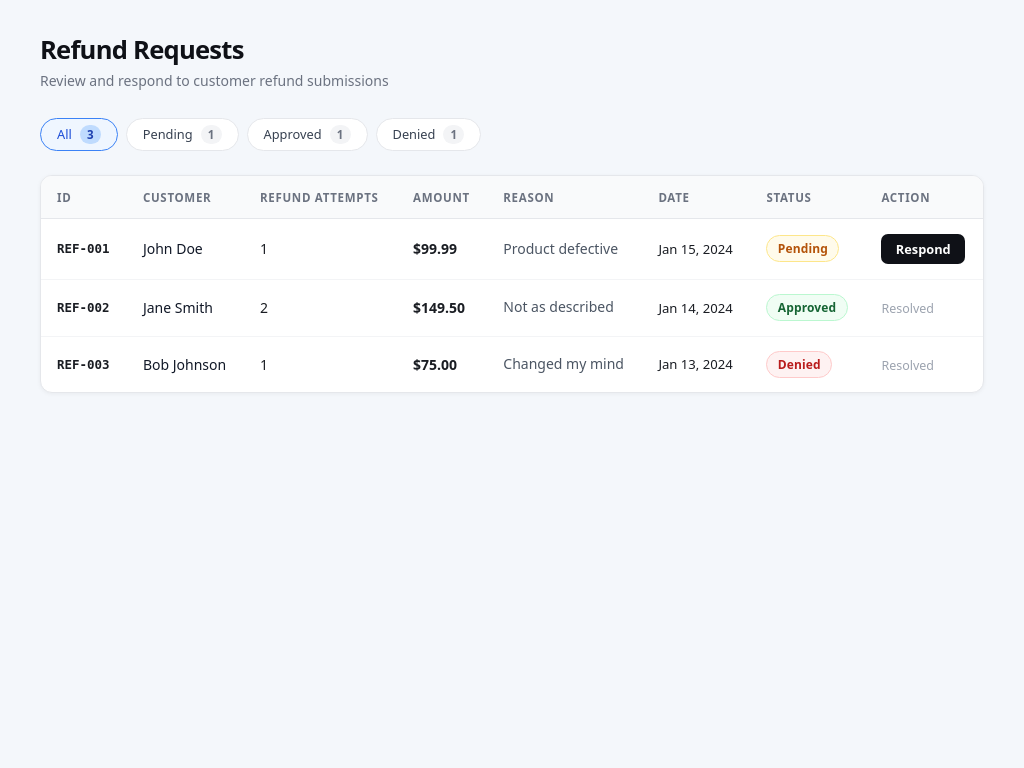
Test case: RefundsPage › closes modal when clicking close button
This screenshot has width=1024, height=768.
Expected: the text "REF-001" is shown, [41,219,127,279]
Click the button "Respond" at (923, 249), box [881,234,965,264]
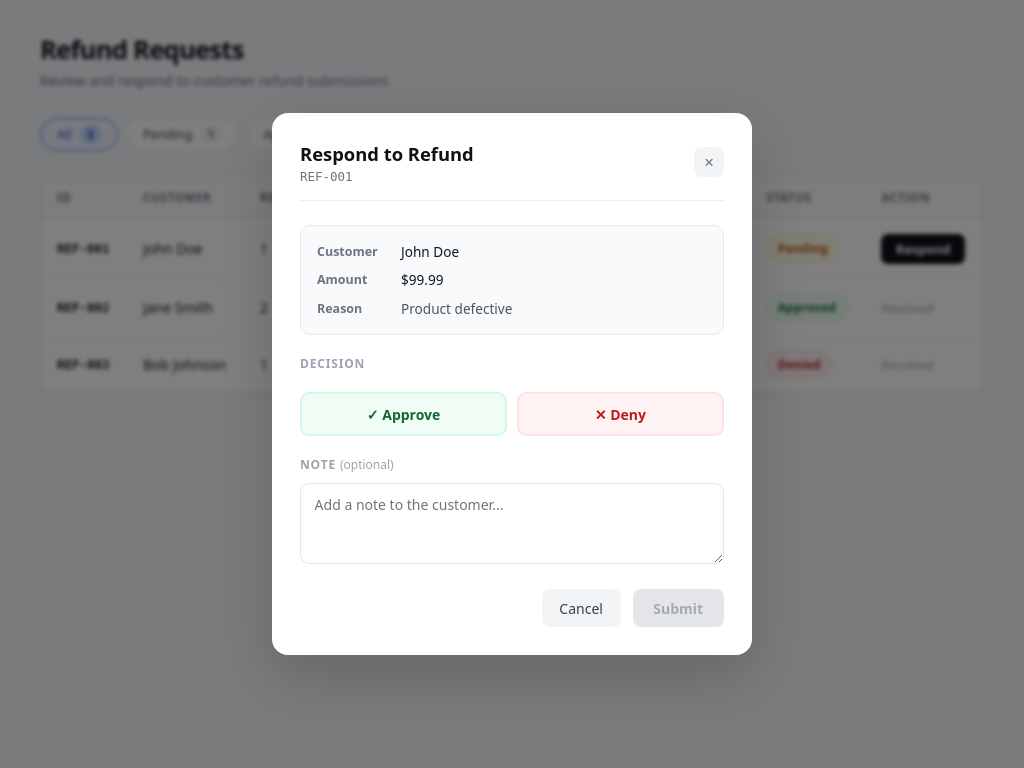
Click the button "✕" at (709, 162), box [694,147,724,177]
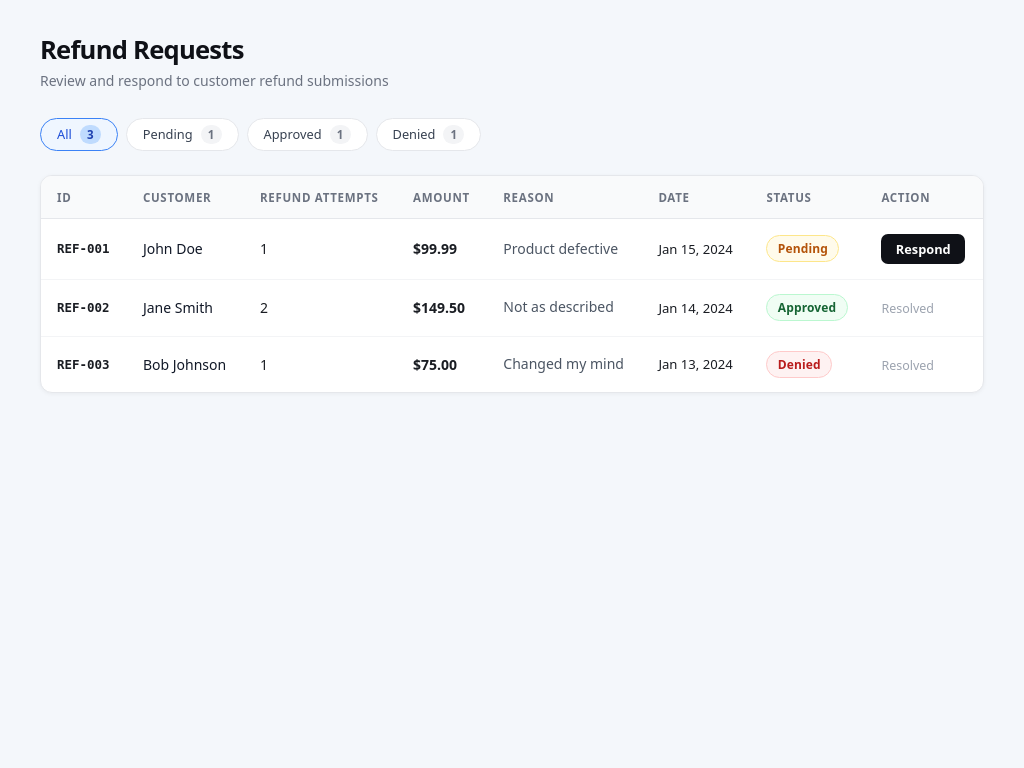
Expected: the heading "Respond to Refund" is gone
